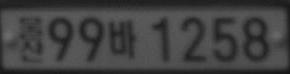1: (147, 15, 175, 62)
2: (180, 15, 209, 62)
5: (211, 16, 238, 62)
8: (242, 15, 270, 62)
9: (46, 15, 74, 62), (77, 16, 105, 63)
바: (108, 19, 137, 59)
울산_V: (18, 15, 44, 63)
